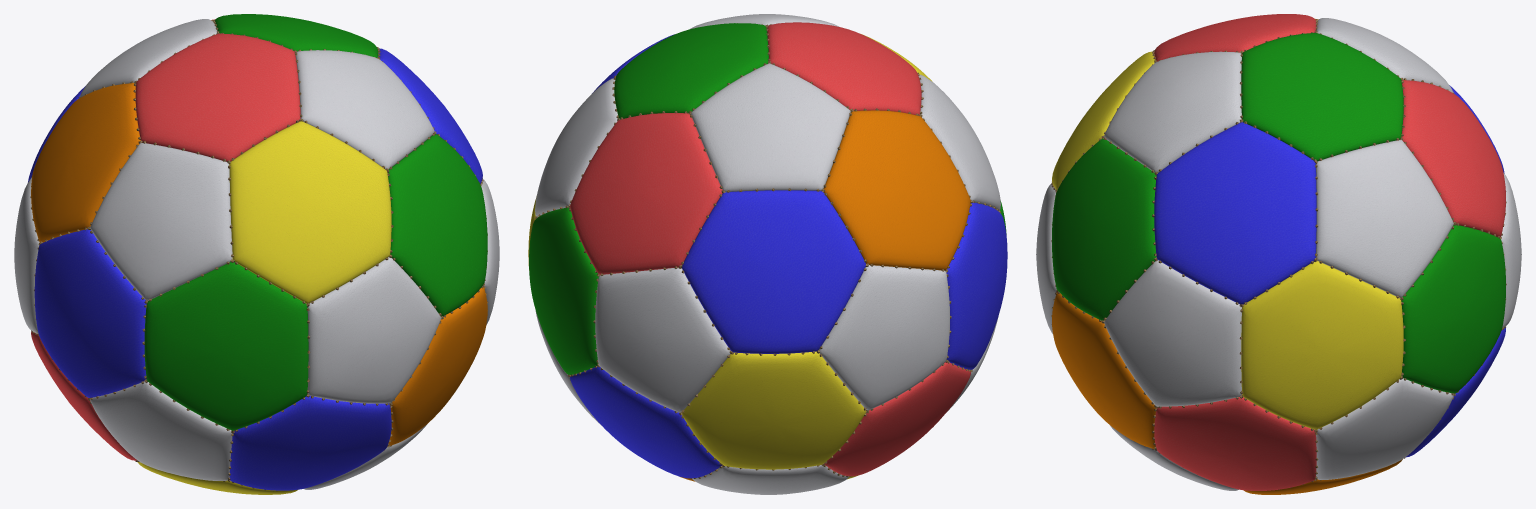
Rendered from futbol.obj.
The picture shows the model from 3 angles, left to right: view 1: azimuth 30°, elevation 25°; view 2: azimuth 150°, elevation 25°; view 3: azimuth 270°, elevation 25°; orthographic projection.
Visible parts, largest first — view 1: ball; view 2: ball; view 3: ball.
Part boxes in pixels (box(x1,y1,x2,y2)): ball: box(14, 14, 499, 494); ball: box(528, 14, 1007, 494); ball: box(1036, 14, 1521, 494).
Bounding box in the file's own units: 21.7 × 21.83 × 21.98.
Materials: 7 (7 with a texture image).
